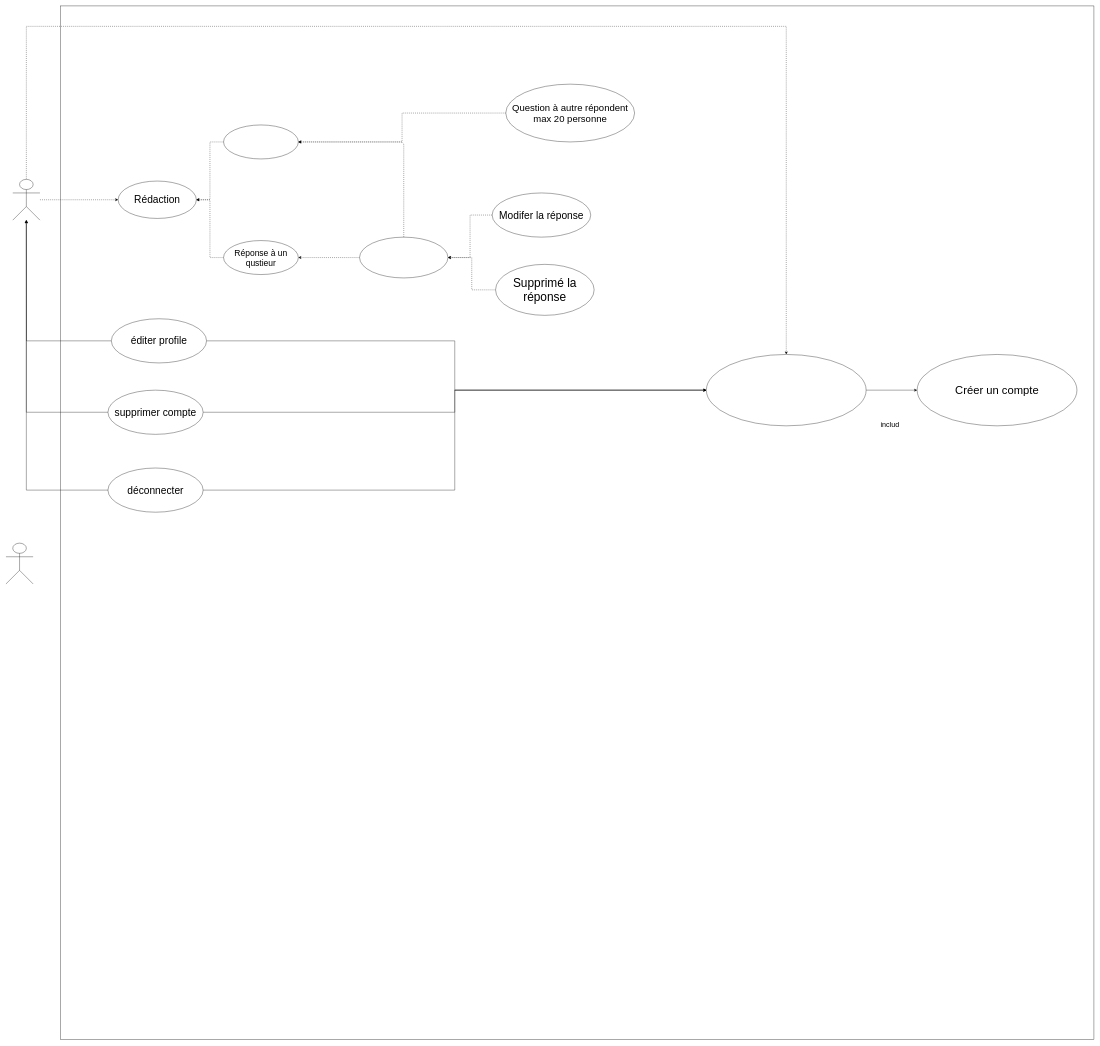
This 1100x1046 diagram has some shape labels left out. The shapes that lost their labels are listed below. From the top down, each one's box as (x1, y1, x2, y2) in pixels, then its label:
(223, 125, 298, 159): Question à un répondent
(12, 179, 40, 220): user
(359, 237, 448, 278): édite réponse
(706, 354, 866, 426): s'identifer
(6, 543, 33, 584): Actor
